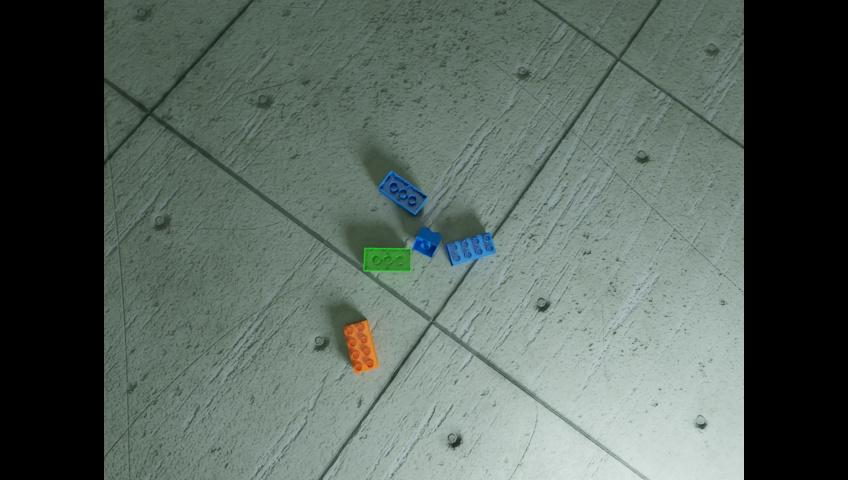2x2_blue: (411, 226, 441, 257)
4x2_blue: (378, 170, 427, 216), (445, 231, 495, 266)
4x2_green: (363, 247, 410, 271)
4x2_orange: (343, 319, 377, 373)
